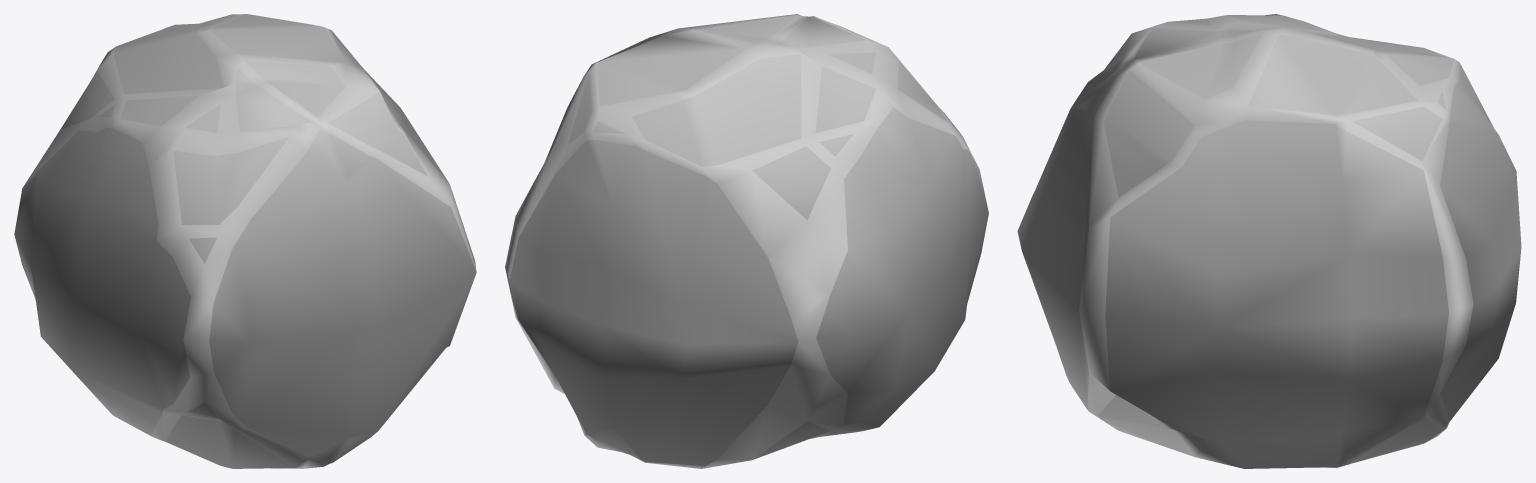
Rendered from Boulder.fbx.
3 renders of one model, left to right at view 1: azimuth 30°, elevation 25°; view 2: azimuth 150°, elevation 25°; view 3: azimuth 270°, elevation 25°, orthographic. The views are drawn at different scales.
Parts seen in each view (by area): view 1: Boulder; view 2: Boulder; view 3: Boulder.
Part boxes in pixels (x1,y1,x2,y2): Boulder: (14,14,476,468); Boulder: (505,14,988,468); Boulder: (1017,14,1521,468).
Bounding box in the file's own units: 102 × 101 × 115.
